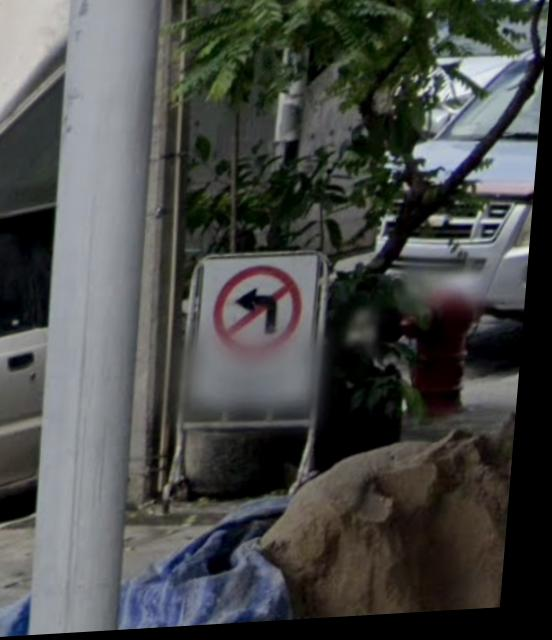not_turn_left: (219, 265, 314, 363)
